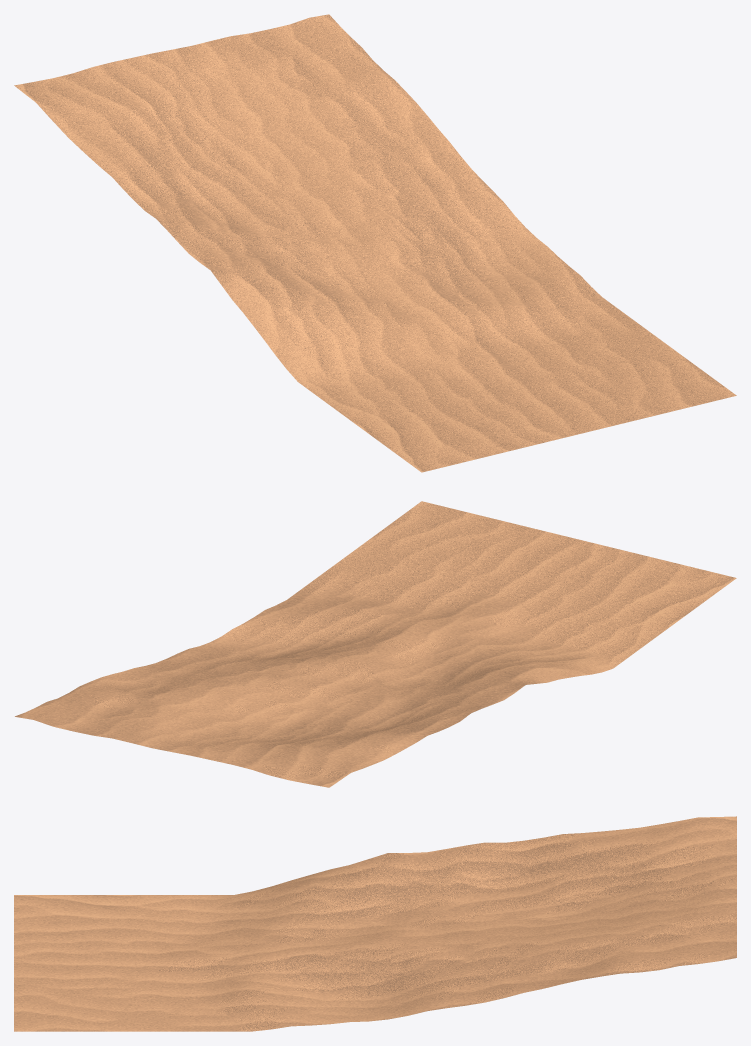
Rendered from map_1.gltf.
3 views of the same model, one above another, from view 1: azimuth 30°, elevation 25°; view 2: azimuth 150°, elevation 25°; view 3: azimuth 270°, elevation 25° (orthographic). The views are drawn at different scales.
Visible parts, largest first — view 1: landscape2; view 2: landscape2; view 3: landscape2.
Part boxes in pixels (left/top/right/bottom): landscape2: left=14, top=14, right=736, bottom=472; landscape2: left=15, top=501, right=736, bottom=787; landscape2: left=14, top=816, right=736, bottom=1031.
Size of the model in its own units: 9.38 by 2.52 by 21.
Materials: 1 (1 with a texture image).
